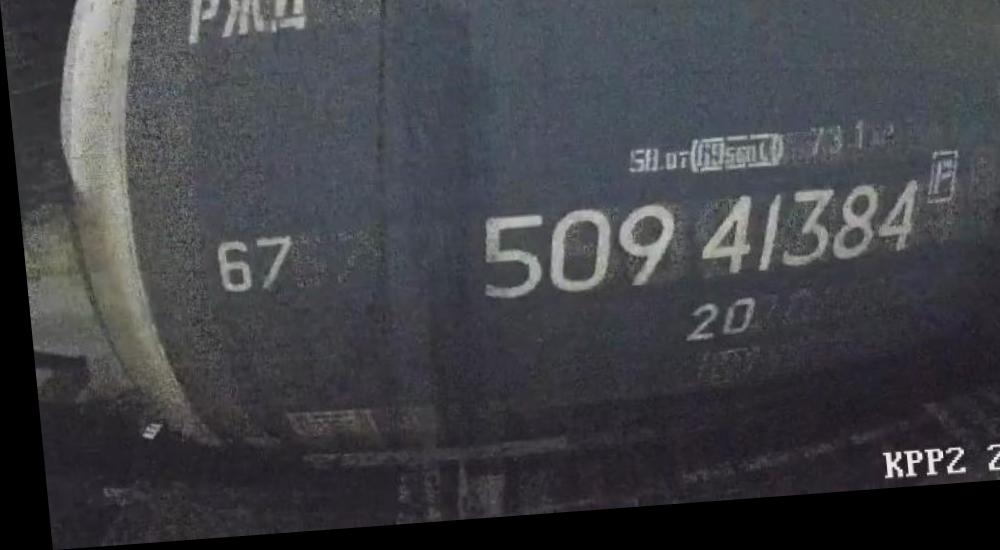Wagon-number: (464, 189, 924, 316)
